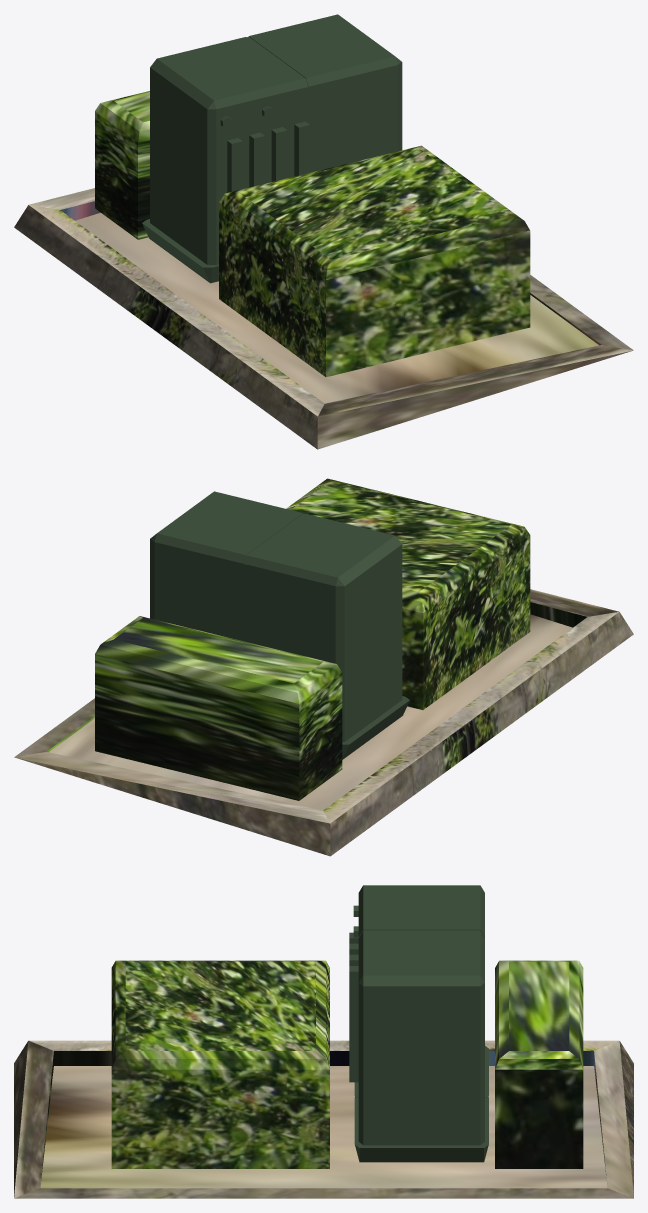
Rendered from 變電箱fbx.fbx.
The picture shows the model from 3 angles, top to bottom: view 1: azimuth 30°, elevation 25°; view 2: azimuth 150°, elevation 25°; view 3: azimuth 270°, elevation 25°; orthographic projection. The views are drawn at different scales.
Visible parts, largest first — view 1: 變電箱; view 2: 變電箱; view 3: 變電箱.
Part boxes in pixels (x1,y1,x2,y2): 變電箱: [14, 14, 633, 449]; 變電箱: [14, 478, 633, 856]; 變電箱: [14, 885, 633, 1198].
Size of the model in its own units: 210 by 131 by 348.
2 materials, 1 textured.
